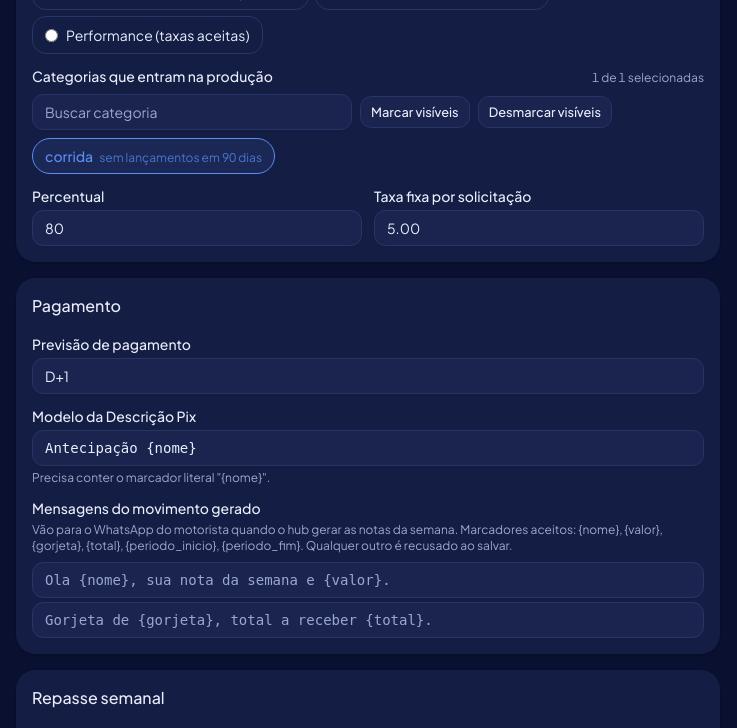
Scenario: ConfiguracoesAdiantamentoPage › 7.4.3: salvar com versão desatualizada (409) mostra o aviso de conflito SEM perder o que foi digitado
(page scrolled)
Replace the text in the field labelled "Previsão de pagamento" with "depois das 18h". click: (368, 376)
box: left=32, top=358, right=704, bottom=394
(page scrolled)
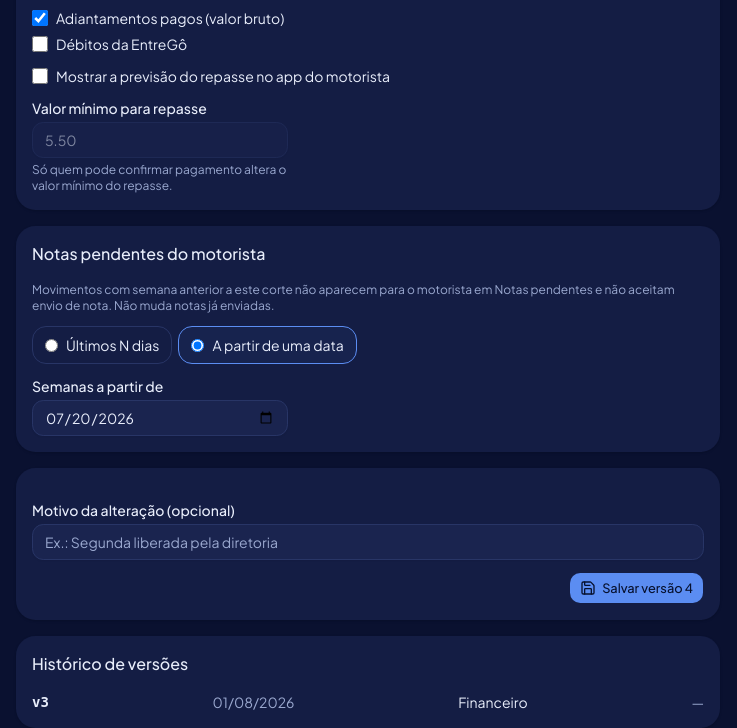
Click the button "Salvar versão 4". click: click(637, 588)
box: left=569, top=572, right=704, bottom=604
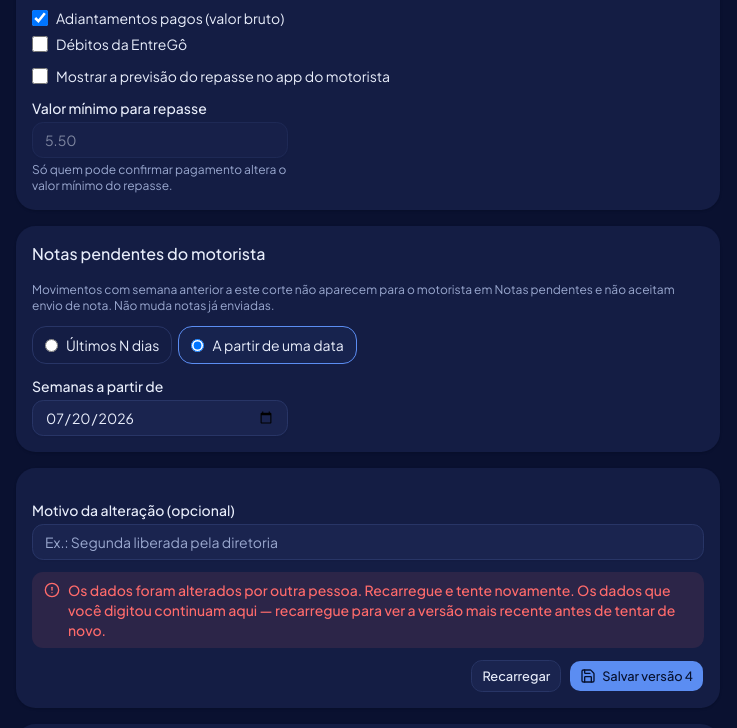
Now the message shows "Os dados foram alterados por outra pessoa.", box left=68, top=581, right=575, bottom=599
Now the button "Recarregar" is shown, box left=471, top=660, right=561, bottom=692
